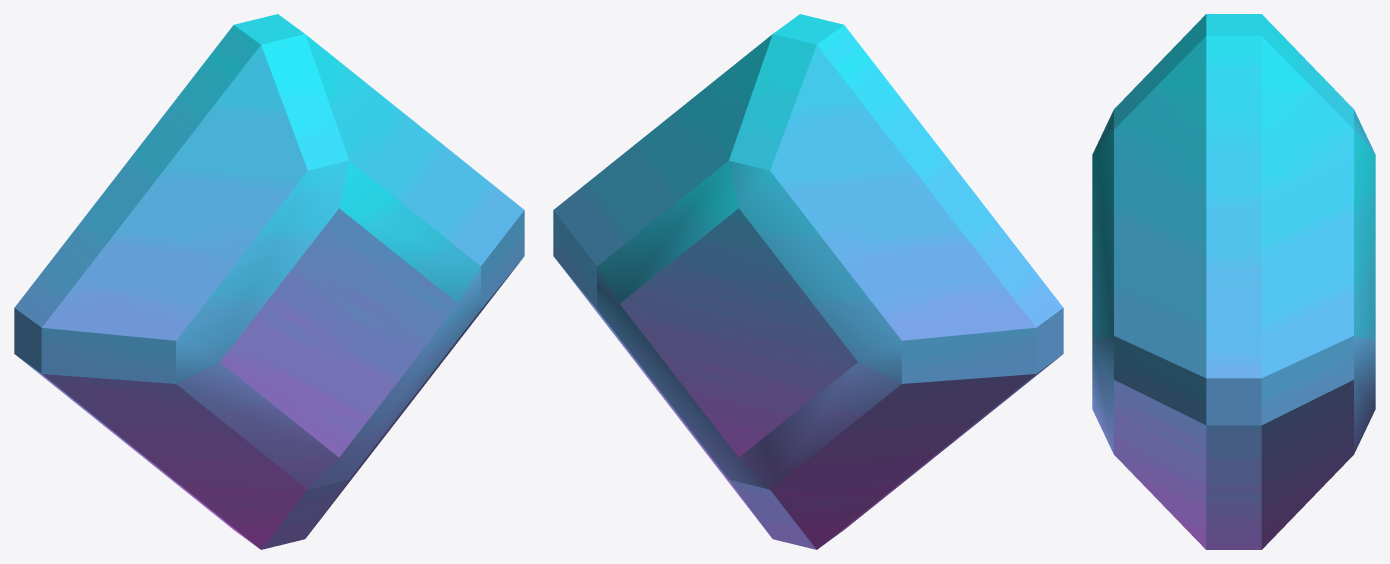
Rendered from gem-medium.glb.
3 renders of one model, left to right at view 1: azimuth 30°, elevation 25°; view 2: azimuth 150°, elevation 25°; view 3: azimuth 270°, elevation 25°, orthographic.
Visible parts, largest first — view 1: Gem_Medium; view 2: Gem_Medium; view 3: Gem_Medium.
Boxes of the visible parts, x1,y1,x2,y2 form: Gem_Medium: (14, 14, 524, 549); Gem_Medium: (553, 14, 1063, 549); Gem_Medium: (1092, 14, 1375, 549).
Size of the model in its own units: 0.45 by 0.45 by 0.225.
1 material, 1 textured.
